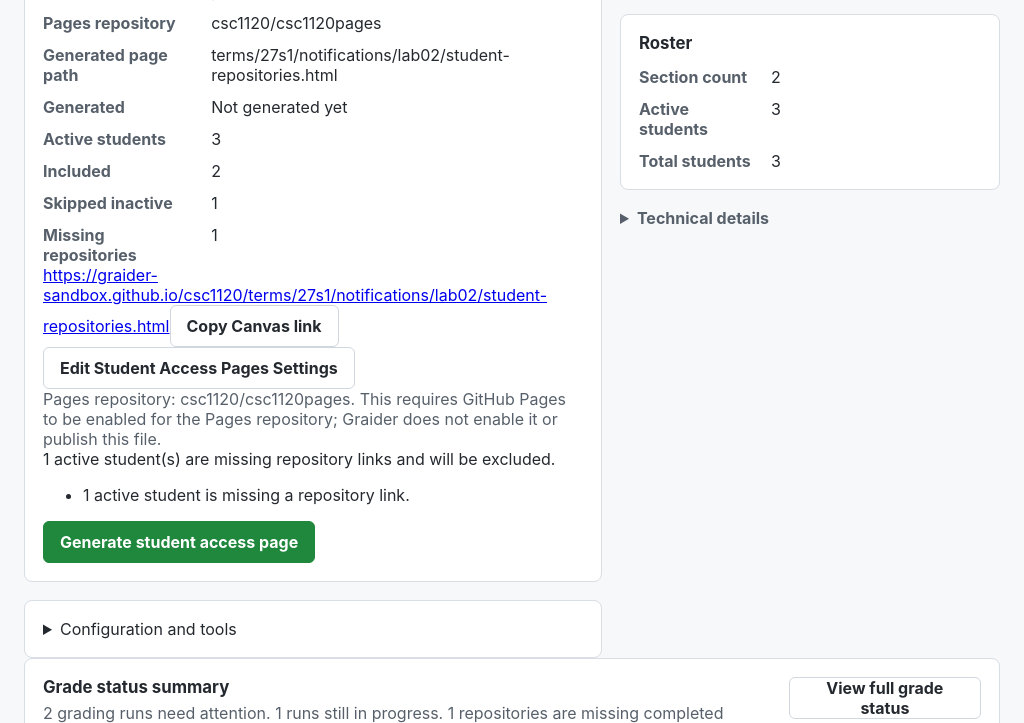
Test case: AssignmentDetailPage › reads saved Student Access Pages values into their matching fields
(page scrolled)
Click the button "Edit Student Access Pages Settings": (199, 368) [43,347,355,389]
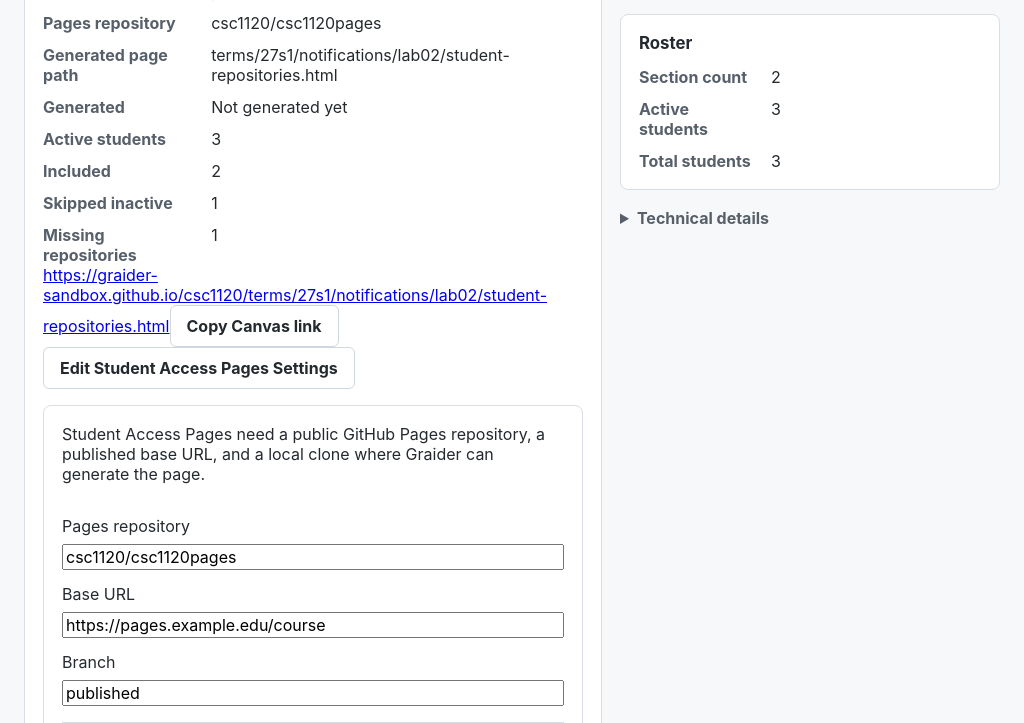
Result: the field labelled "Pages repository" holds "csc1120/csc1120pages" at [62,544,564,570]
Result: the field labelled "Base URL" holds "https://pages.example.edu/course" at [62,612,564,638]
Result: the field labelled "Branch" holds "published" at [62,680,564,706]
